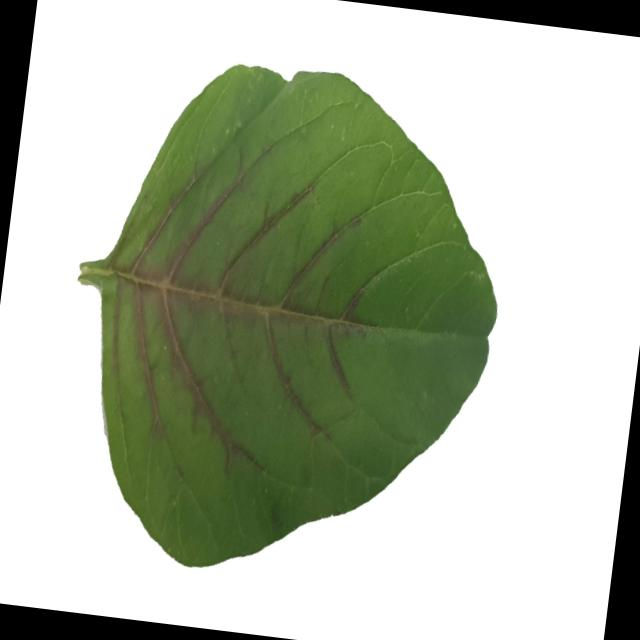Medicinal-Arive Dantu: (43, 45, 522, 600)
